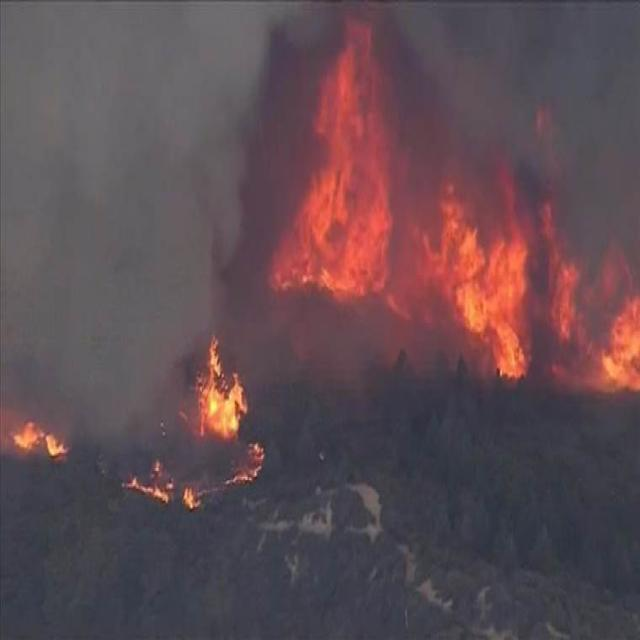Fire: (340, 164, 640, 392), (315, 23, 394, 164), (267, 165, 338, 301), (123, 459, 200, 509), (11, 421, 68, 457), (222, 443, 266, 486)
Smoke: (0, 0, 236, 327), (395, 1, 640, 161), (0, 331, 191, 416), (249, 302, 339, 436), (245, 14, 314, 162), (196, 332, 248, 439)
